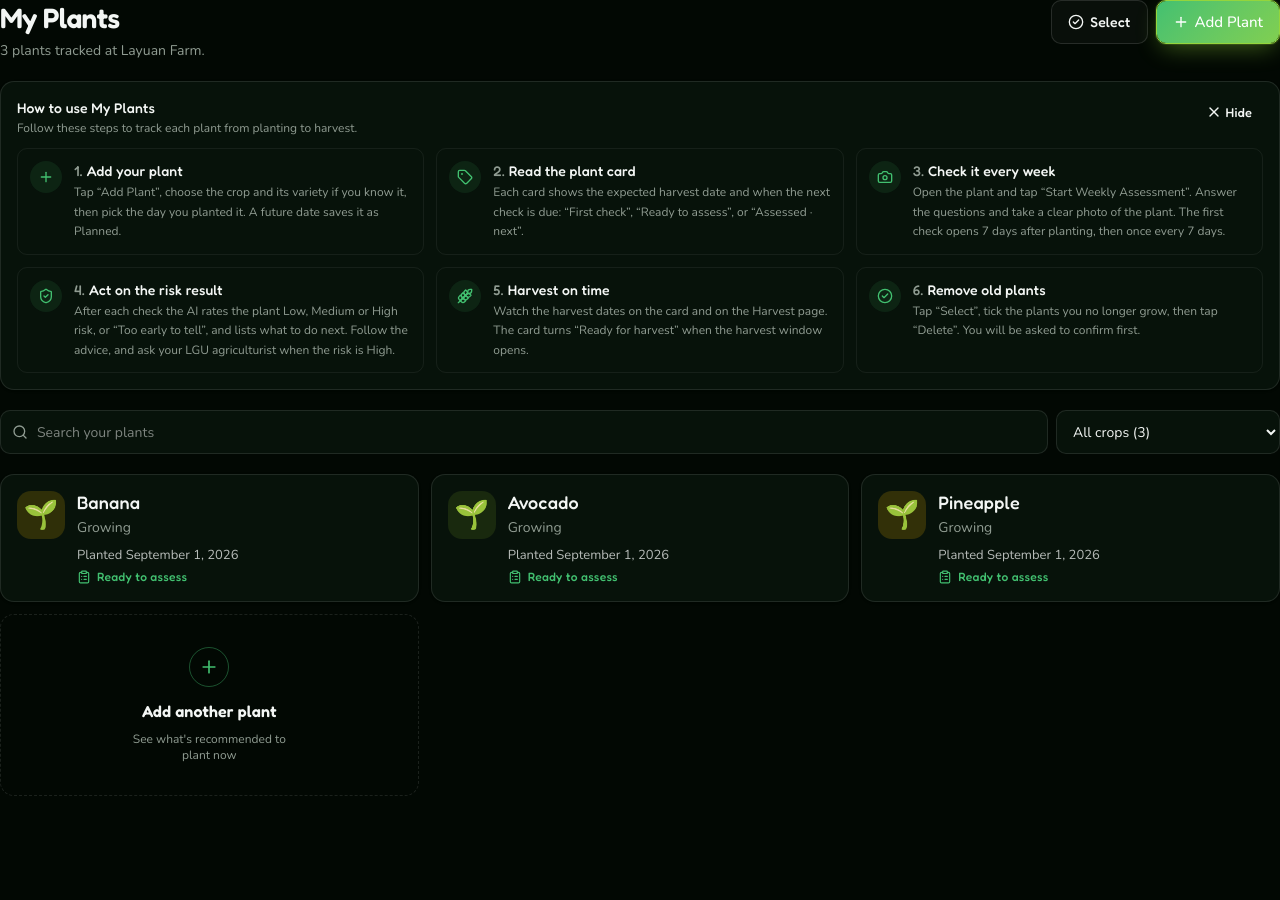
My Plants › asks 'are you sure' and lists what will be deleted — and deletes nothing on Cancel
Click the button "Select": (1099, 22) [1051,0,1148,44]
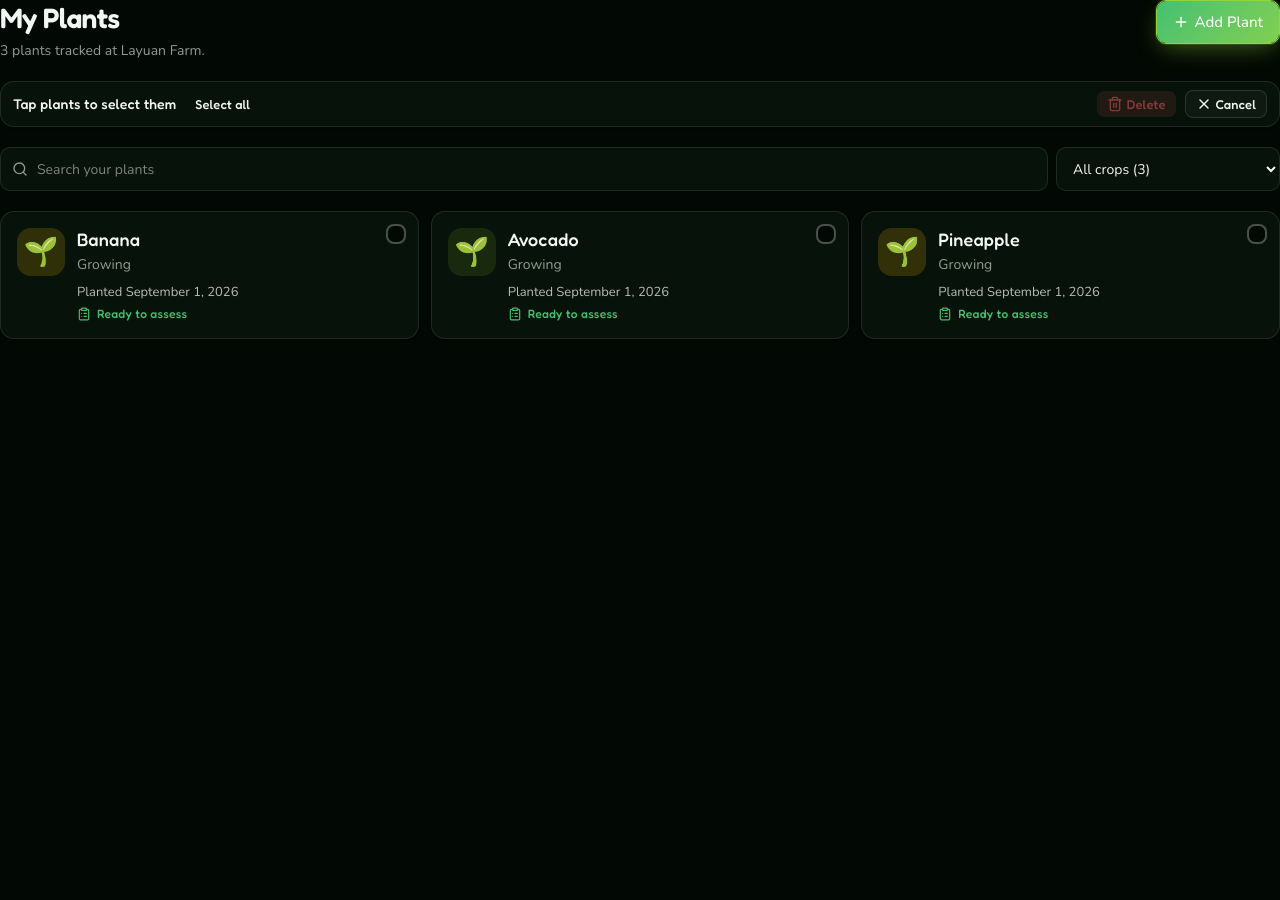
Click the checkbox named "Select Banana": (209, 275) [0,211,419,339]
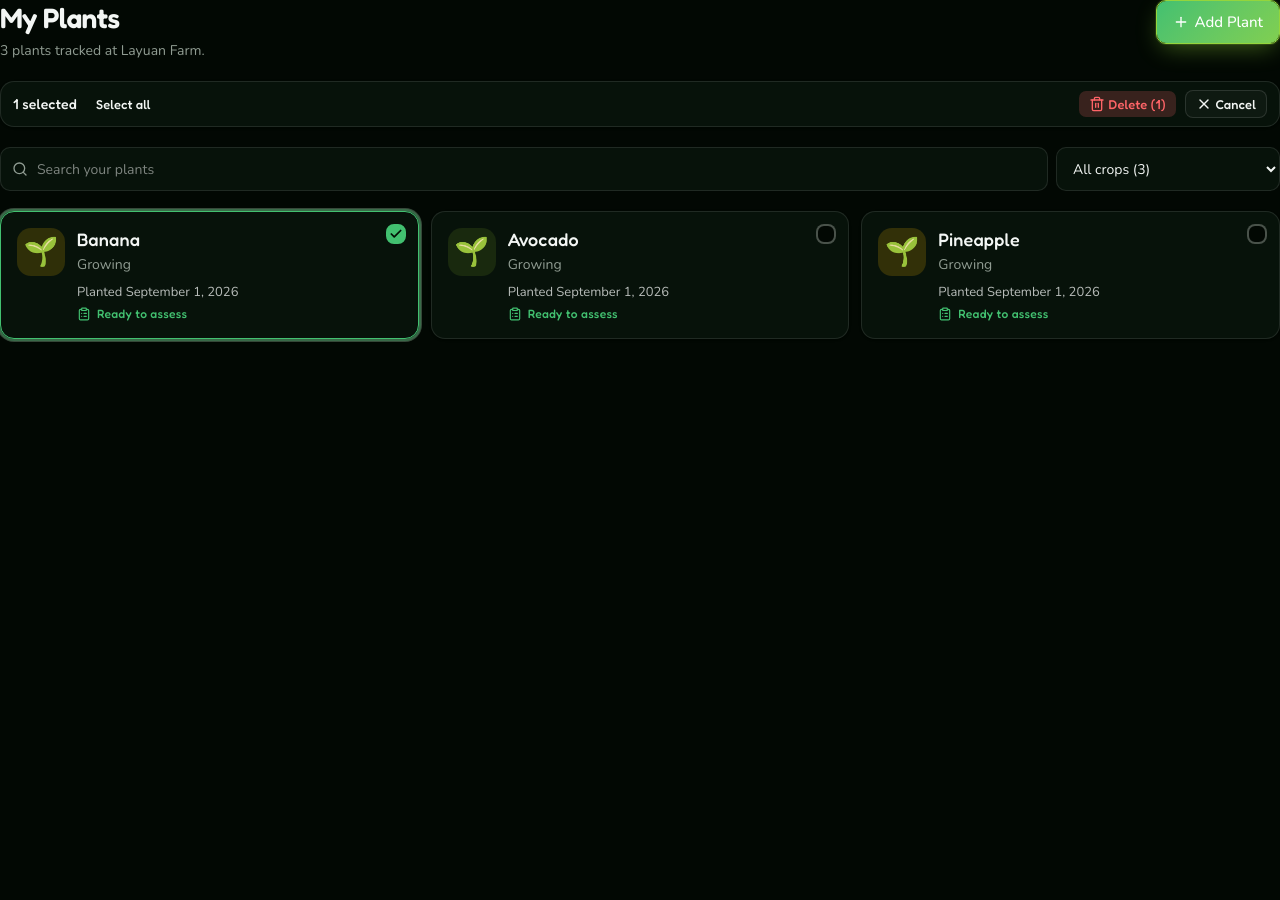
Click the checkbox named "Select Avocado": (640, 275) [431,211,849,339]
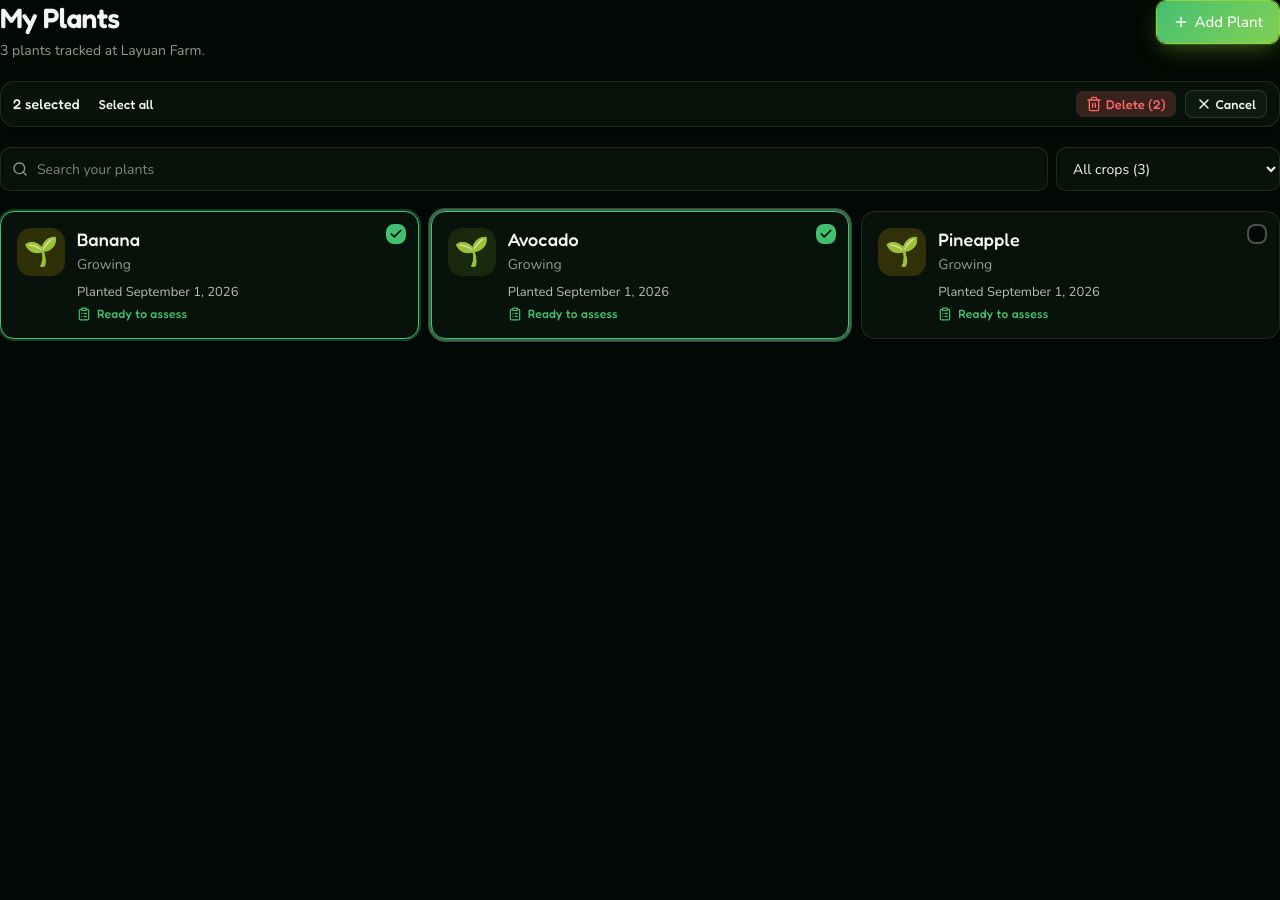
Click the button "Delete (2)": (1126, 104) [1075,90,1176,118]
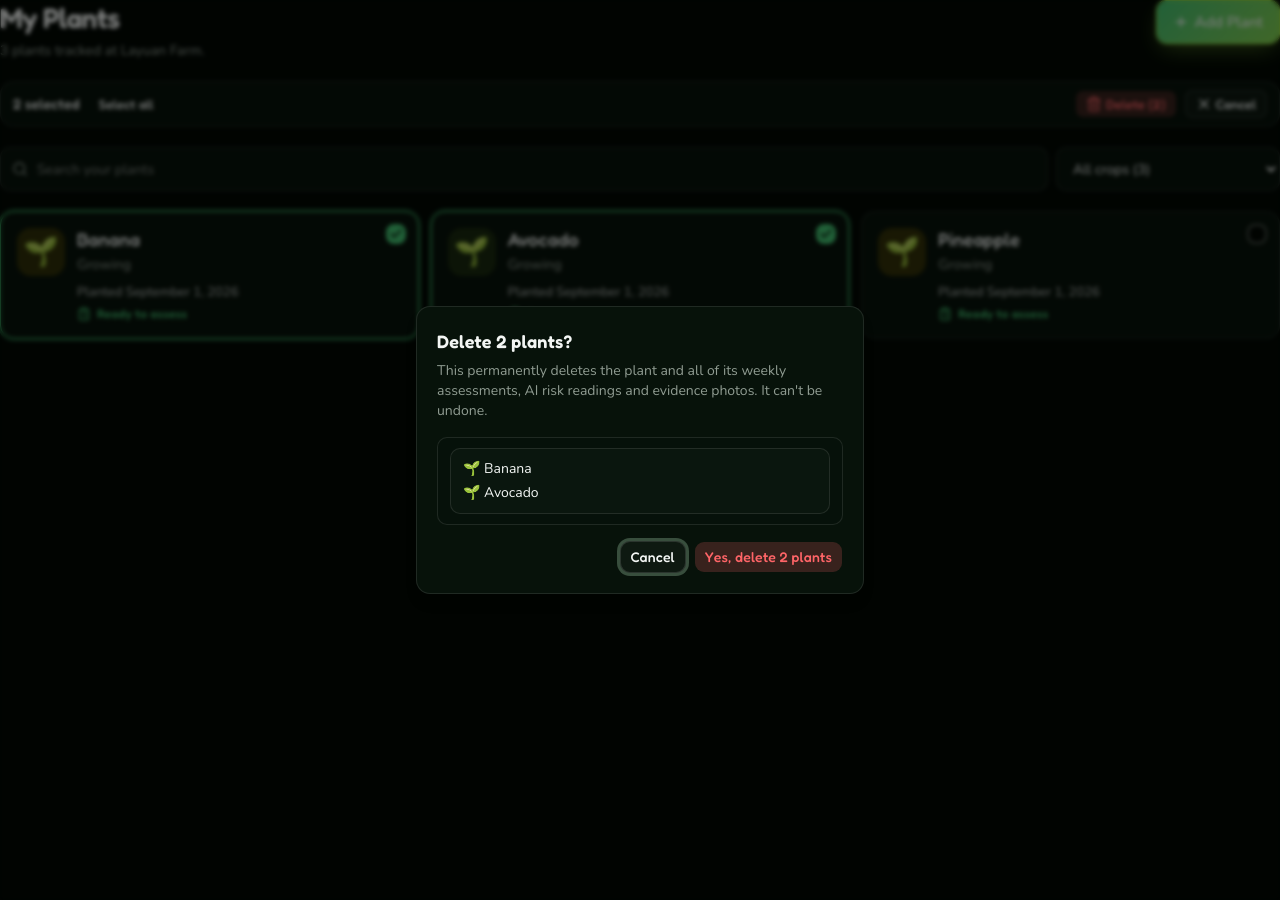
Expected: the dialog shows "Delete 2 plants?", [437,330,572,352]
Expected: the dialog shows "Banana", [484,459,532,478]
Expected: the dialog shows "Avocado", [484,483,539,502]
Click the button "Cancel": (653, 557) [620,541,686,573]
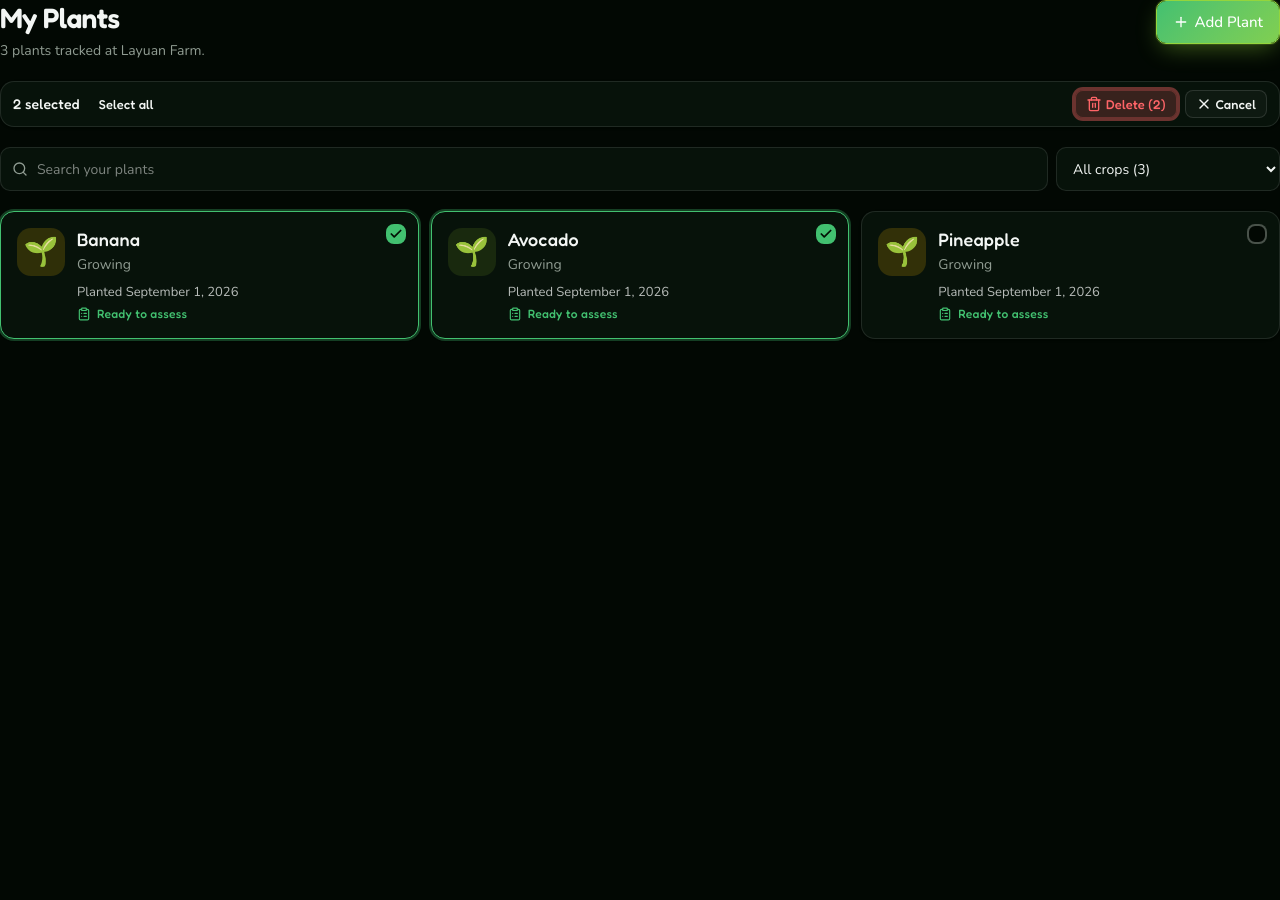
Expected: the dialog is gone
